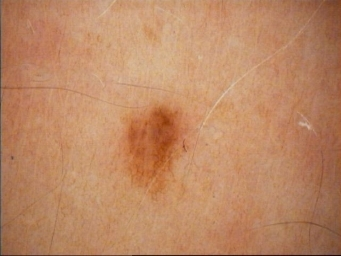nevus: (120, 102, 187, 202)
